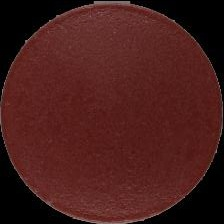61786-324: (0, 0, 224, 224)
